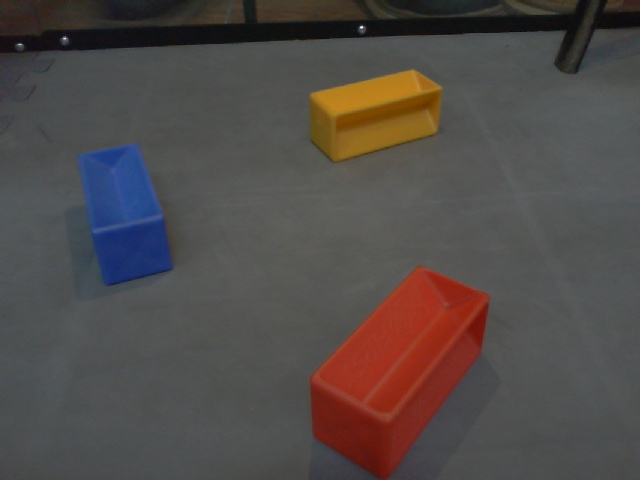BlueSample: (76, 142, 174, 287)
RedSample: (308, 264, 491, 476)
YellowSample: (306, 67, 446, 165)
